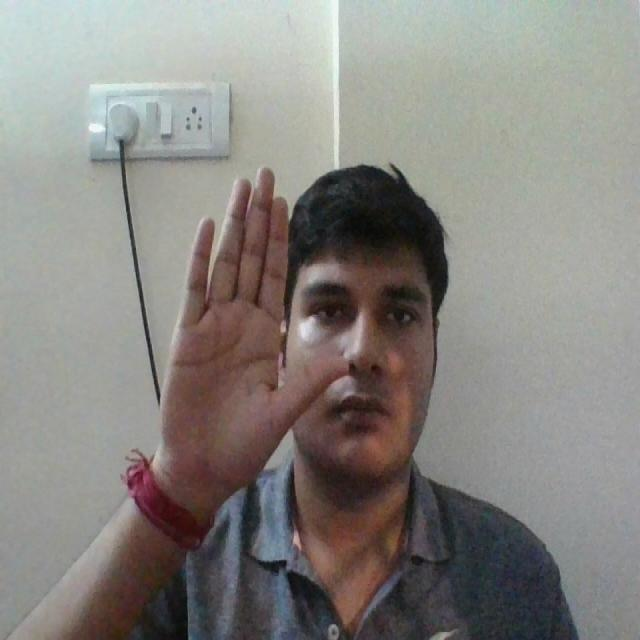Hello: (146, 151, 352, 524)
